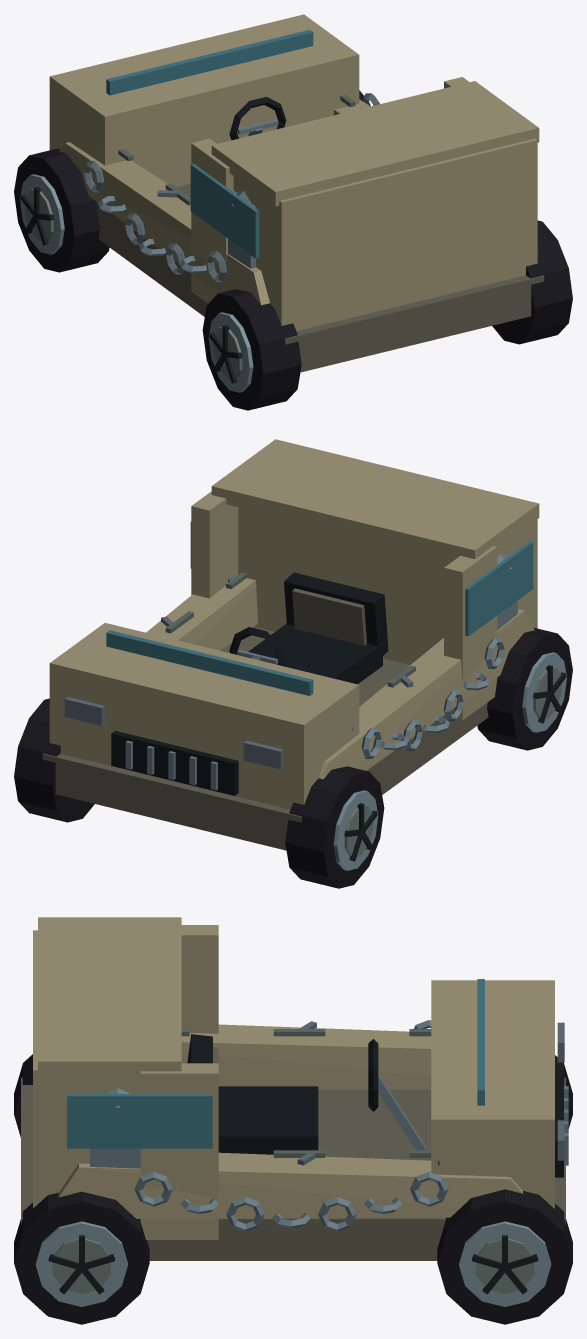
File: kart.glb
3 views of the same model, one above another, from view 1: azimuth 30°, elevation 25°; view 2: azimuth 150°, elevation 25°; view 3: azimuth 270°, elevation 25° (orthographic). The views are drawn at different scales.
Visible parts, largest first — view 1: identity-van-van-utility-body, wheel-rear-left, wheel-front-left, wheel-rear-right, identity-van-motif-chains, identity-van-driver-cockpit, identity-van-motif-runes, identity-van-motif-lanterns; view 2: identity-van-van-utility-body, identity-van-driver-cockpit, wheel-front-left, wheel-rear-left, wheel-front-right, identity-van-motif-chains, identity-van-motif-runes; view 3: identity-van-van-utility-body, wheel-front-right, wheel-rear-right, identity-van-driver-cockpit, identity-van-motif-chains, identity-van-motif-runes, identity-van-motif-lanterns, wheel-rear-left.
Boxes of the visible parts, left/top/right/bottom form: identity-van-van-utility-body: left=49, top=14, right=544, bottom=372; wheel-rear-left: left=202, top=289, right=301, bottom=410; wheel-front-left: left=14, top=148, right=109, bottom=272; wheel-rear-right: left=492, top=220, right=572, bottom=344; identity-van-motif-chains: left=84, top=93, right=379, bottom=282; identity-van-driver-cockpit: left=229, top=96, right=286, bottom=140; identity-van-motif-runes: left=97, top=94, right=355, bottom=205; identity-van-motif-lanterns: left=228, top=190, right=255, bottom=268; identity-van-van-utility-body: left=42, top=439, right=539, bottom=850; identity-van-driver-cockpit: left=229, top=572, right=388, bottom=684; wheel-front-left: left=285, top=766, right=384, bottom=888; wheel-rear-left: left=477, top=627, right=572, bottom=750; wheel-front-right: left=14, top=698, right=94, bottom=822; identity-van-motif-chains: left=361, top=638, right=504, bottom=758; identity-van-motif-runes: left=161, top=572, right=415, bottom=730; identity-van-van-utility-body: left=21, top=917, right=568, bottom=1260; wheel-front-right: left=437, top=1189, right=572, bottom=1324; wheel-rear-right: left=14, top=1191, right=149, bottom=1324; identity-van-driver-cockpit: left=187, top=1034, right=426, bottom=1154; identity-van-motif-chains: left=134, top=1020, right=448, bottom=1231; identity-van-motif-runes: left=181, top=1021, right=439, bottom=1165; identity-van-motif-lanterns: left=90, top=1088, right=140, bottom=1168; wheel-rear-left: left=14, top=1054, right=32, bottom=1137.
Bounding box in the file's own units: 2.13 × 1.38 × 2.8.
